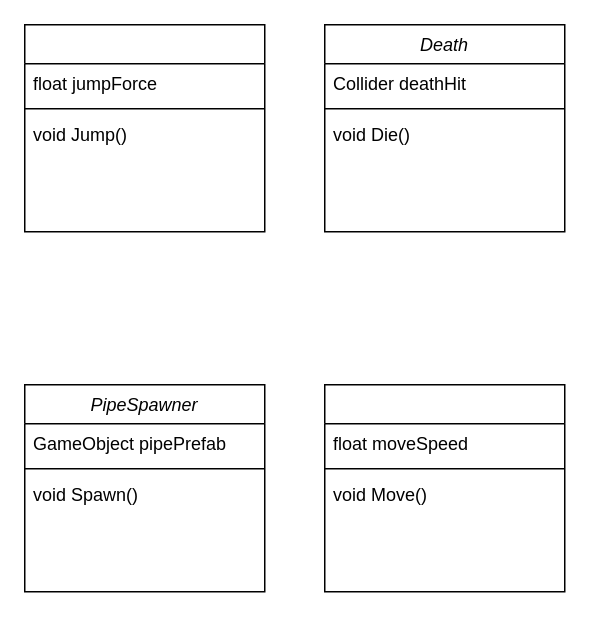
Image size: 590x617. Some labels were removed from this diagram. The shapes that lost their labels are listed below. From the top down, each one's box as (x1, y1, x2, y2) in pixels, then its label:
(23, 23, 265, 232): BirdMovement
(323, 383, 565, 592): PipeMovement
